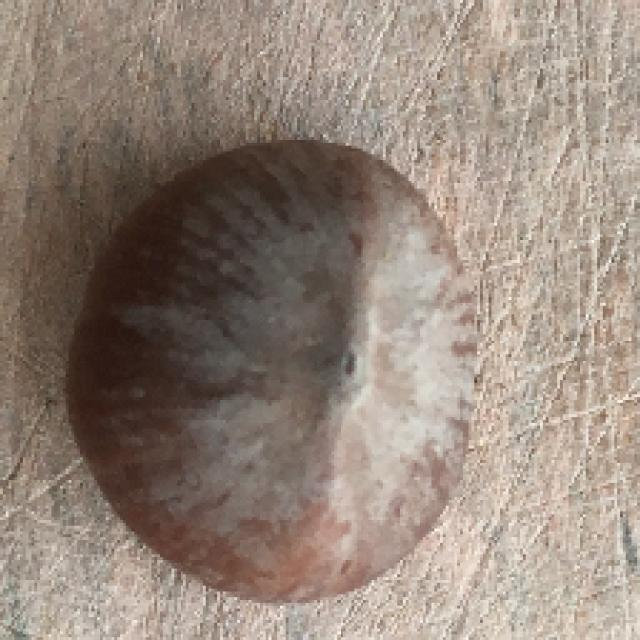damagedHazelnut: (70, 128, 491, 629)
